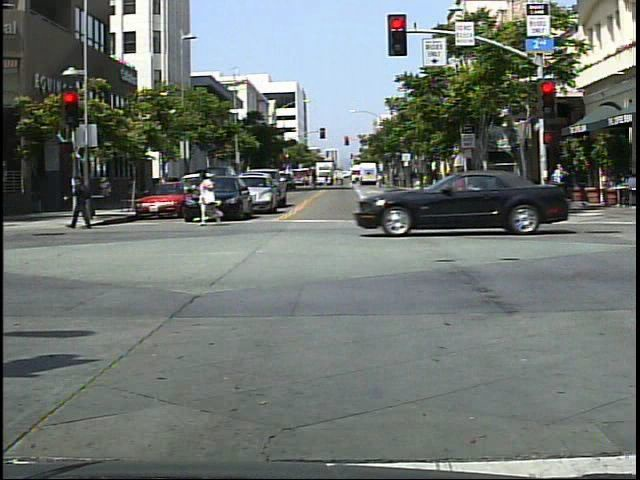person: (65, 169, 98, 235), (193, 168, 224, 232), (446, 165, 477, 224), (548, 160, 571, 211)
